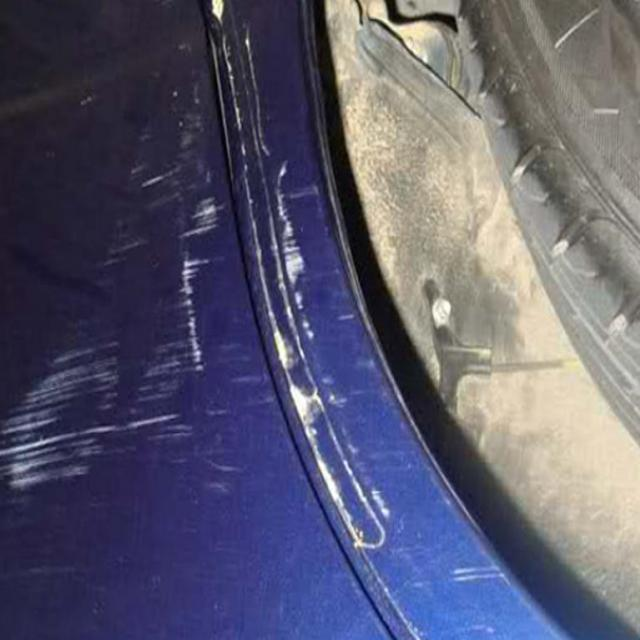scratch: (166, 0, 448, 567), (0, 236, 135, 536)
